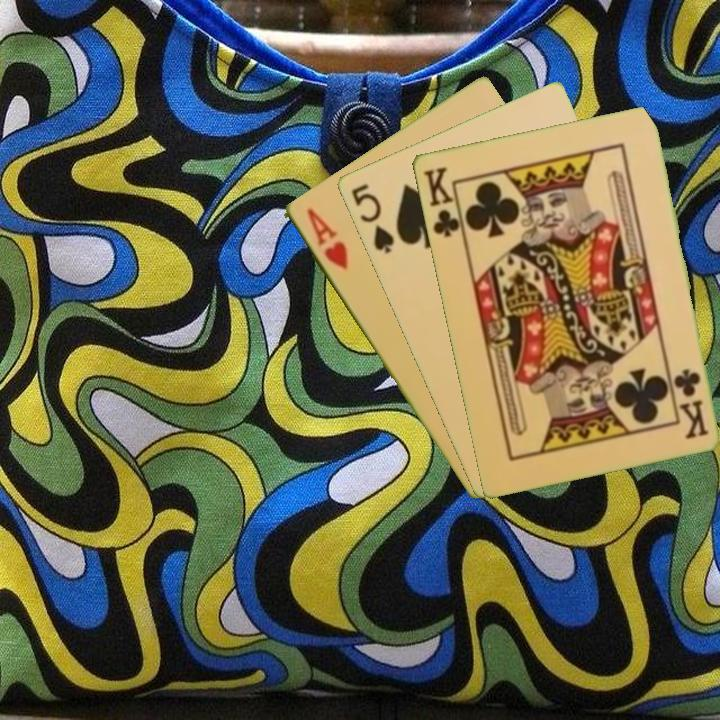5s: (347, 180, 397, 257)
Ah: (302, 204, 351, 273)
Kc: (419, 163, 466, 241), (671, 364, 711, 441)
